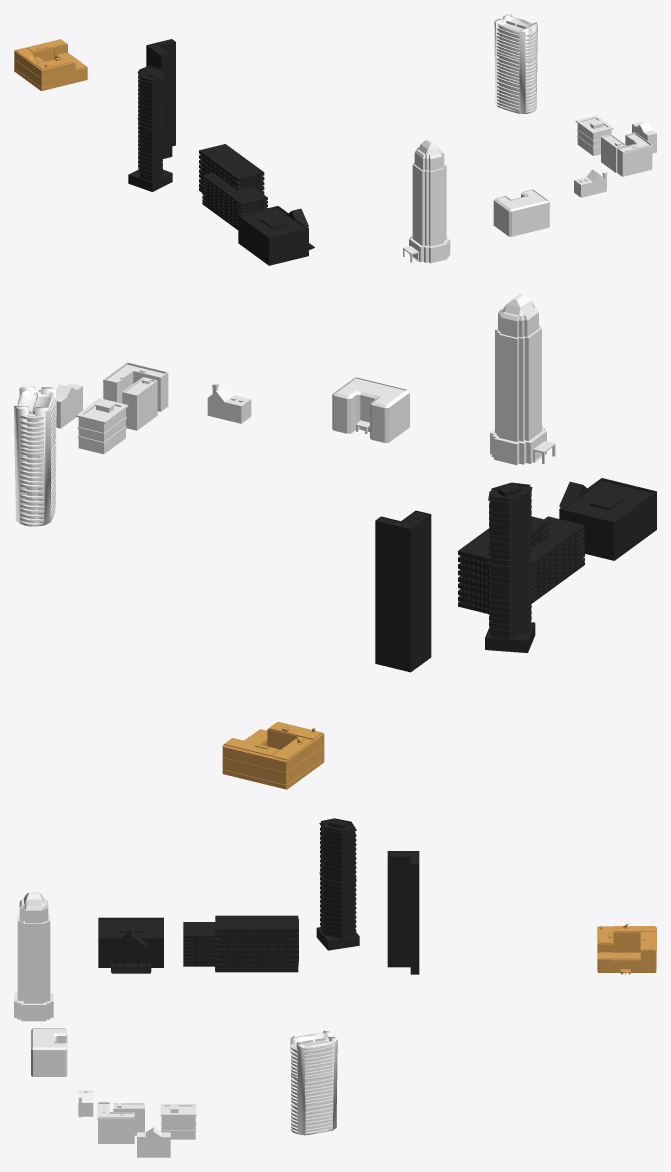
Rendered from town.gltf.
The picture shows the model from 3 angles, top to bottom: view 1: azimuth 30°, elevation 25°; view 2: azimuth 150°, elevation 25°; view 3: azimuth 270°, elevation 25°; orthographic projection. The views are drawn at different scales.
Visible parts, largest first — view 1: Cube.005, bldgs2.001, bldgs2.002, building1_9, Cylinder.006, Cube.009, Plane.005, Plane.003, Cube.010, Cube.011, building3_3, building1_6; view 2: Plane.003, Cube.005, Cylinder.006, bldgs2.001, building1_9, bldgs2.002, Cube.009, Plane.005, Cube.010, Cube.011, building3_3, building1_6; view 3: bldgs2.001, Cylinder.006, bldgs2.002, Cube.005, Plane.003, building1_9, Cube.009, Cube.010, Plane.005, Cube.011, building1_6.
Boxes of the visible parts, bbox=[...] form: Cube.005: bbox=[403, 139, 450, 263]; bldgs2.001: bbox=[199, 144, 267, 229]; bldgs2.002: bbox=[494, 14, 537, 113]; building1_9: bbox=[238, 206, 314, 265]; Cylinder.006: bbox=[128, 65, 172, 191]; Cube.009: bbox=[14, 39, 87, 90]; Plane.005: bbox=[493, 189, 549, 236]; Plane.003: bbox=[146, 39, 175, 158]; Cube.010: bbox=[601, 132, 653, 176]; Cube.011: bbox=[575, 115, 613, 155]; building3_3: bbox=[574, 169, 607, 197]; building1_6: bbox=[632, 122, 656, 153]; Plane.003: bbox=[375, 510, 431, 672]; Cube.005: bbox=[490, 294, 555, 465]; Cylinder.006: bbox=[485, 482, 535, 652]; bldgs2.001: bbox=[458, 516, 584, 614]; building1_9: bbox=[559, 478, 656, 560]; bldgs2.002: bbox=[14, 386, 56, 526]; Cube.009: bbox=[222, 722, 324, 789]; Plane.005: bbox=[332, 377, 409, 442]; Cube.010: bbox=[103, 362, 168, 430]; Cube.011: bbox=[76, 398, 128, 454]; building3_3: bbox=[207, 383, 251, 423]; building1_6: bbox=[56, 383, 82, 428]; bldgs2.001: bbox=[183, 915, 298, 972]; Cylinder.006: bbox=[316, 818, 359, 950]; bldgs2.002: bbox=[290, 1030, 337, 1135]; Cube.005: bbox=[14, 892, 53, 1021]; Plane.003: bbox=[387, 851, 419, 974]; building1_9: bbox=[98, 917, 163, 973]; Cube.009: bbox=[597, 924, 656, 975]; Cube.010: bbox=[97, 1102, 144, 1143]; Plane.005: bbox=[31, 1028, 67, 1076]; Cube.011: bbox=[160, 1103, 196, 1139]; building1_6: bbox=[137, 1127, 170, 1157].
Size of the model in its own units: 297 by 75.5 by 360.
